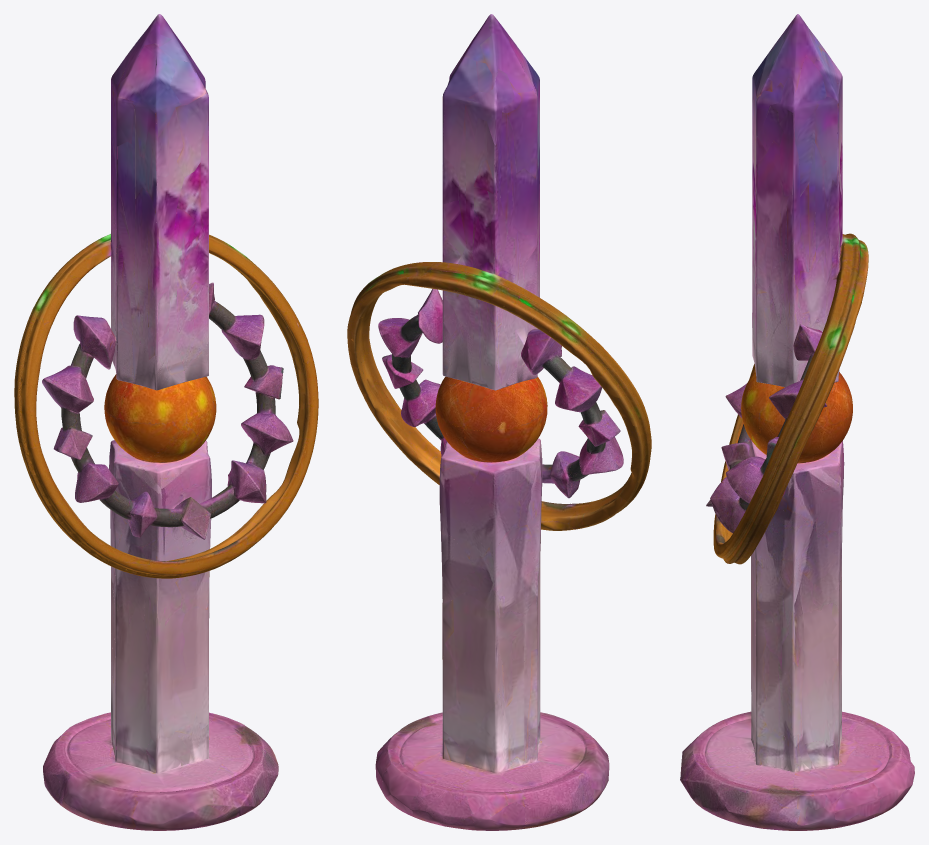
Rendered from chord.glb.
The picture shows the model from 3 angles, left to right: view 1: azimuth 30°, elevation 25°; view 2: azimuth 150°, elevation 25°; view 3: azimuth 270°, elevation 25°; orthographic projection.
Visible parts, largest first — view 1: Mesh_0; view 2: Mesh_0; view 3: Mesh_0.
Part boxes in pixels (bbox=[...]): Mesh_0: bbox=[14, 14, 318, 830]; Mesh_0: bbox=[347, 14, 651, 830]; Mesh_0: bbox=[680, 14, 914, 830].
Size of the model in its own units: 0.7576 by 1.9 by 0.5255.
Materials: 1 (1 with a texture image).
